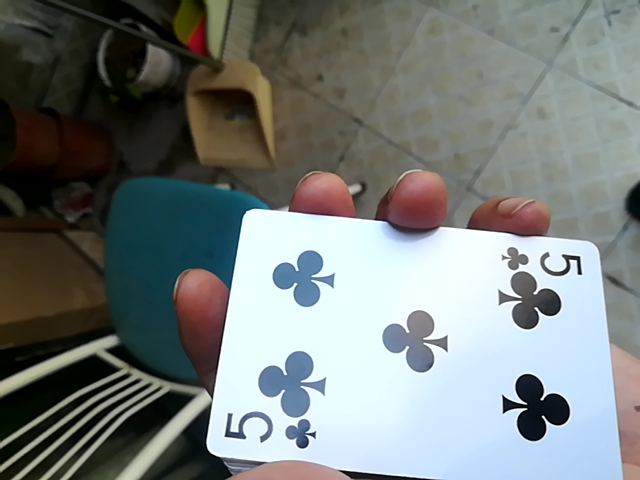mh 5: (208, 208, 631, 480)
